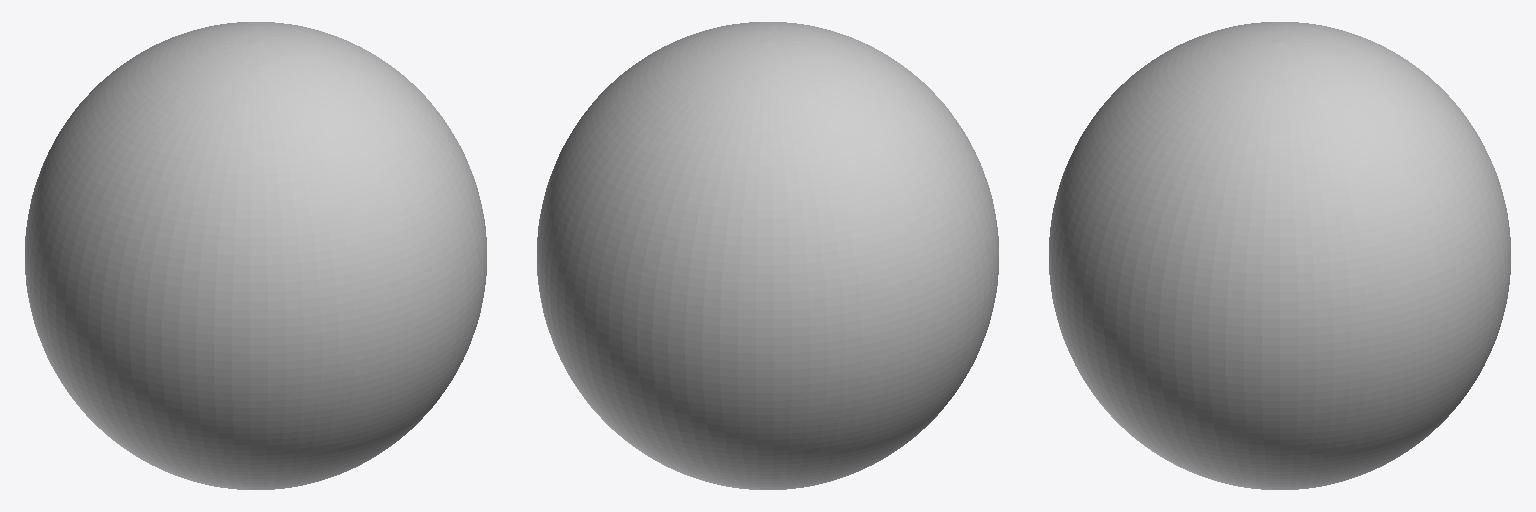
Rendered from m_rhip.obj.
3 renders of one model, left to right at view 1: azimuth 30°, elevation 25°; view 2: azimuth 150°, elevation 25°; view 3: azimuth 270°, elevation 25°, orthographic.
Parts seen in each view (by area): view 1: pSphere7; view 2: pSphere7; view 3: pSphere7.
Boxes of the visible parts, <box> form: pSphere7: <box>25,22,486,489</box>; pSphere7: <box>537,22,998,489</box>; pSphere7: <box>1049,22,1510,489</box>.
Bounding box in the file's own units: 0.852 × 0.8672 × 0.852.